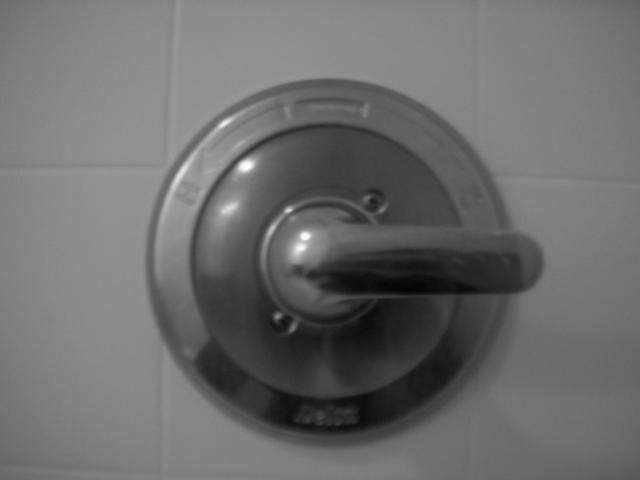Door-handle: (144, 77, 544, 438)
